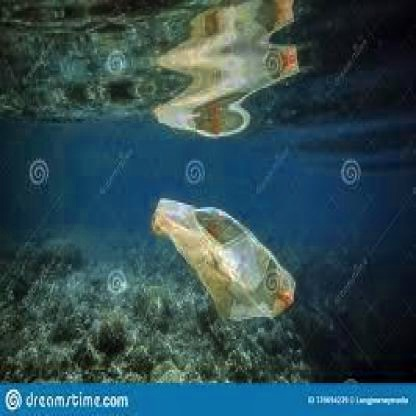pbag: (150, 196, 297, 323)
